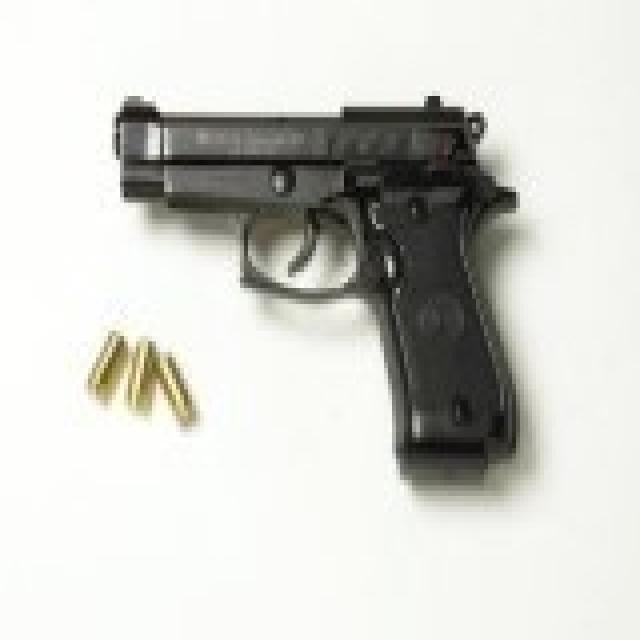Gun: (76, 59, 530, 477)
